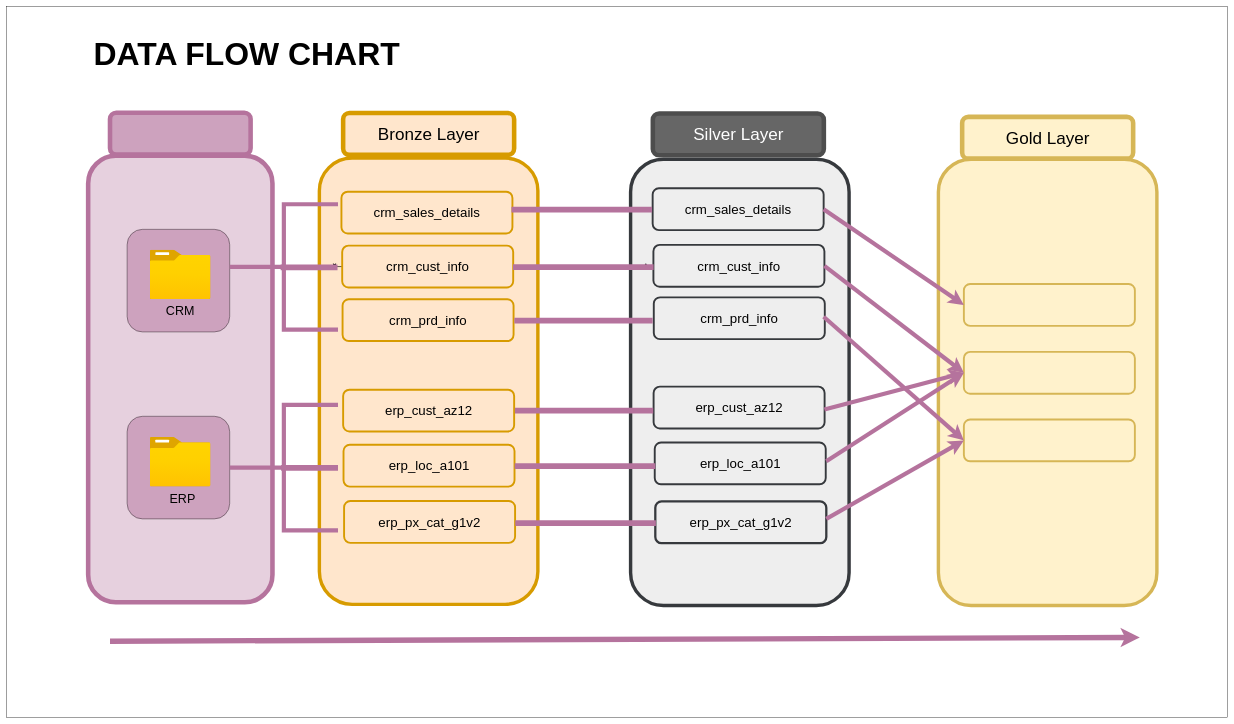
The diagram is 1234 pixels wide and 724 high, and some of its shapes have lost their labels. Each missing label, with the box of its shape:
dim_customers: (963, 351, 1136, 394)
dim_products: (963, 418, 1136, 462)
fact_sales: (963, 283, 1136, 327)
Sources: (108, 110, 253, 157)
